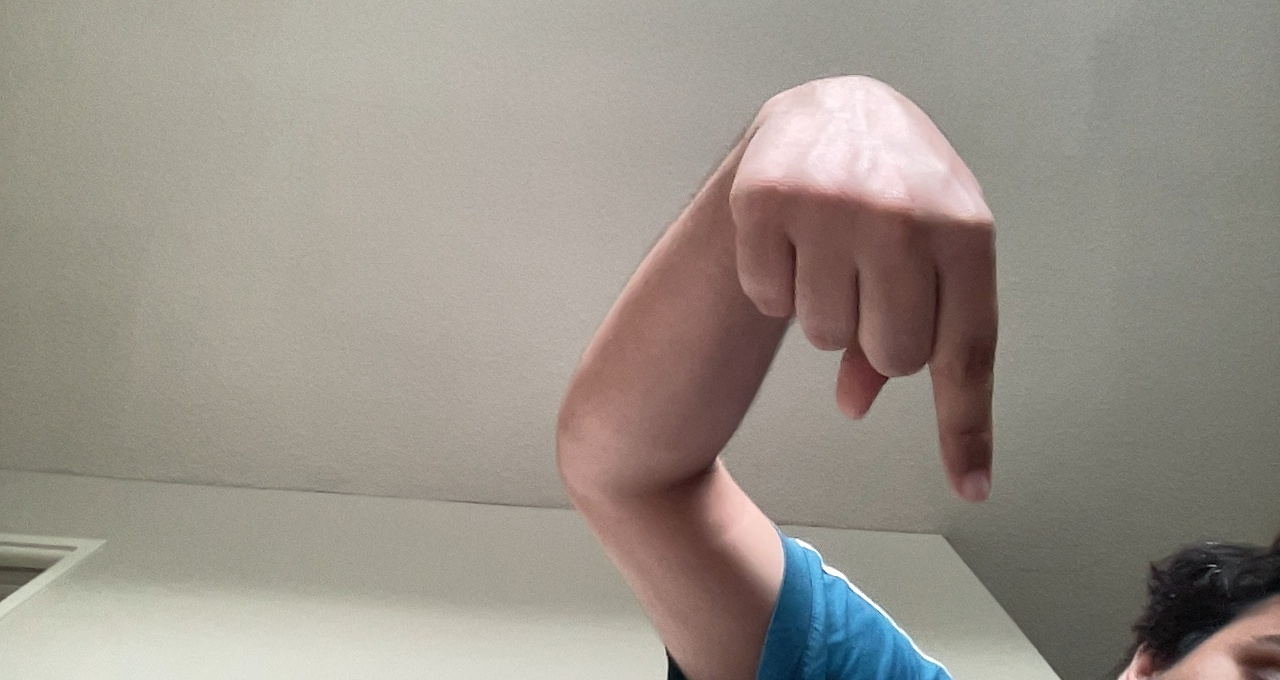fingerdown: (727, 66, 1008, 508)
